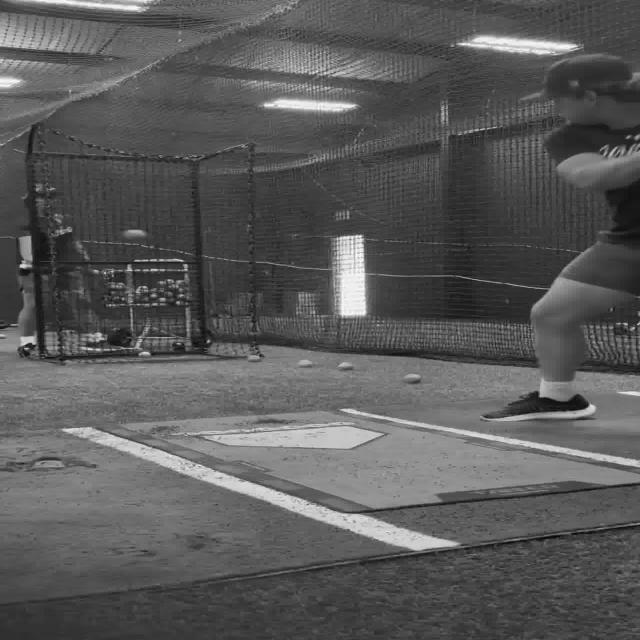baseball: (122, 229, 148, 240), (402, 374, 420, 384), (336, 362, 354, 370), (297, 360, 313, 368), (247, 354, 261, 362), (138, 352, 150, 358)
shoe: (478, 391, 596, 422), (16, 343, 42, 360)
